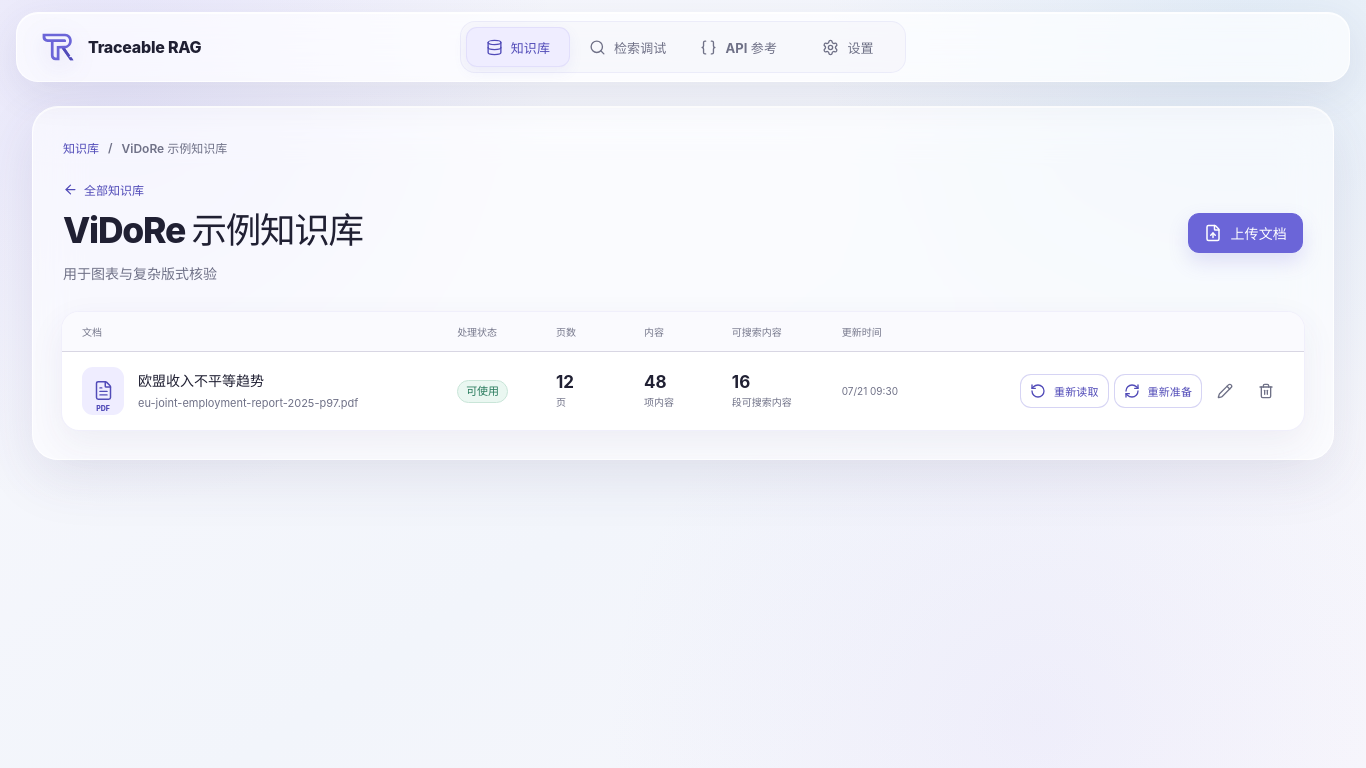
knowledge base pages › keeps a failed process transitional when the authoritative refresh also fails
Click the button with aria-label "重新读取欧盟收入不平等趋势" at [1064, 391], box [1020,374,1109,408]
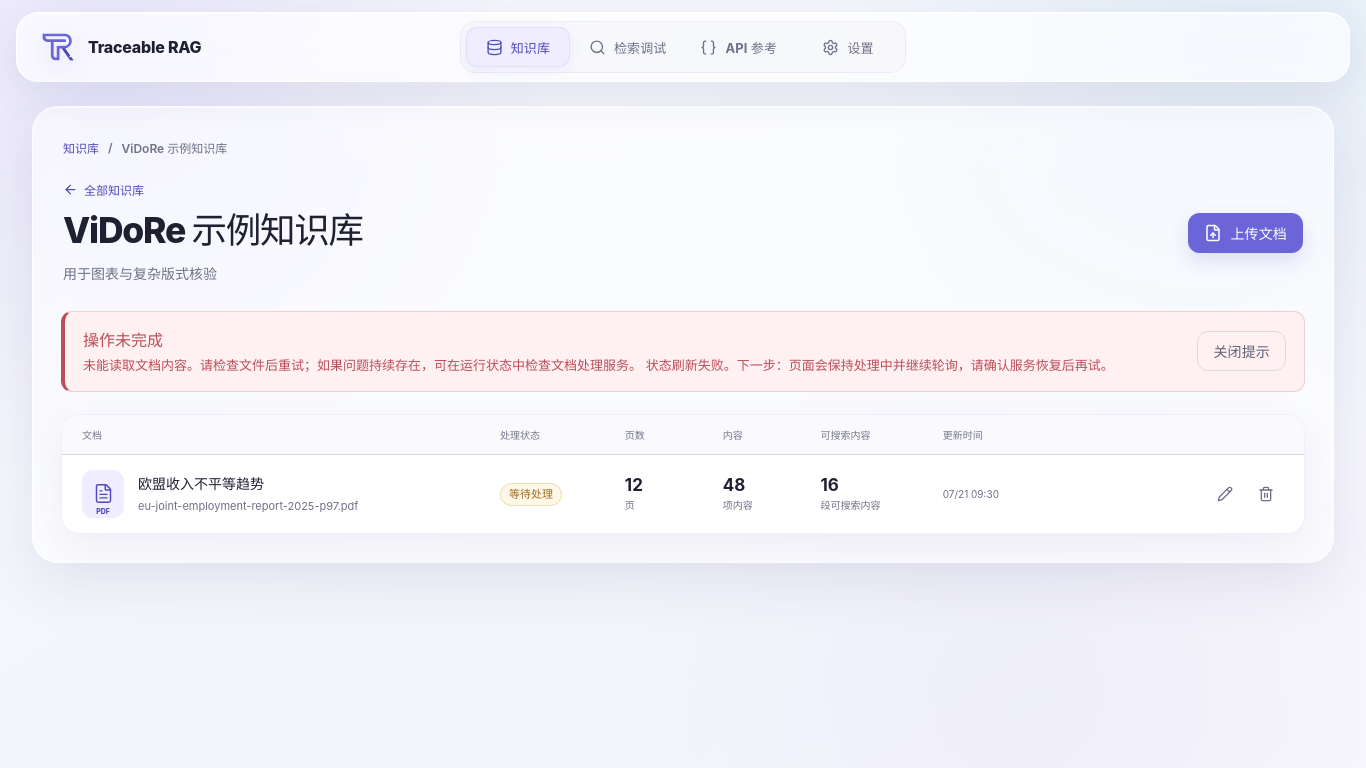
Check: the text "等待处理" is shown, box [500,483,562,506]
Check: the message shows "状态刷新失败", box [83,357,1114,373]
